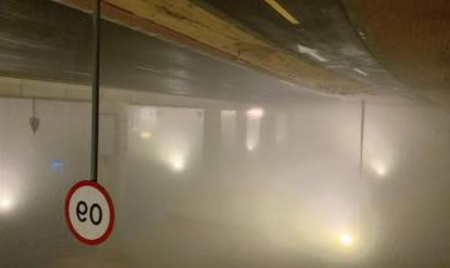Speed limit: (56, 173, 117, 249)
